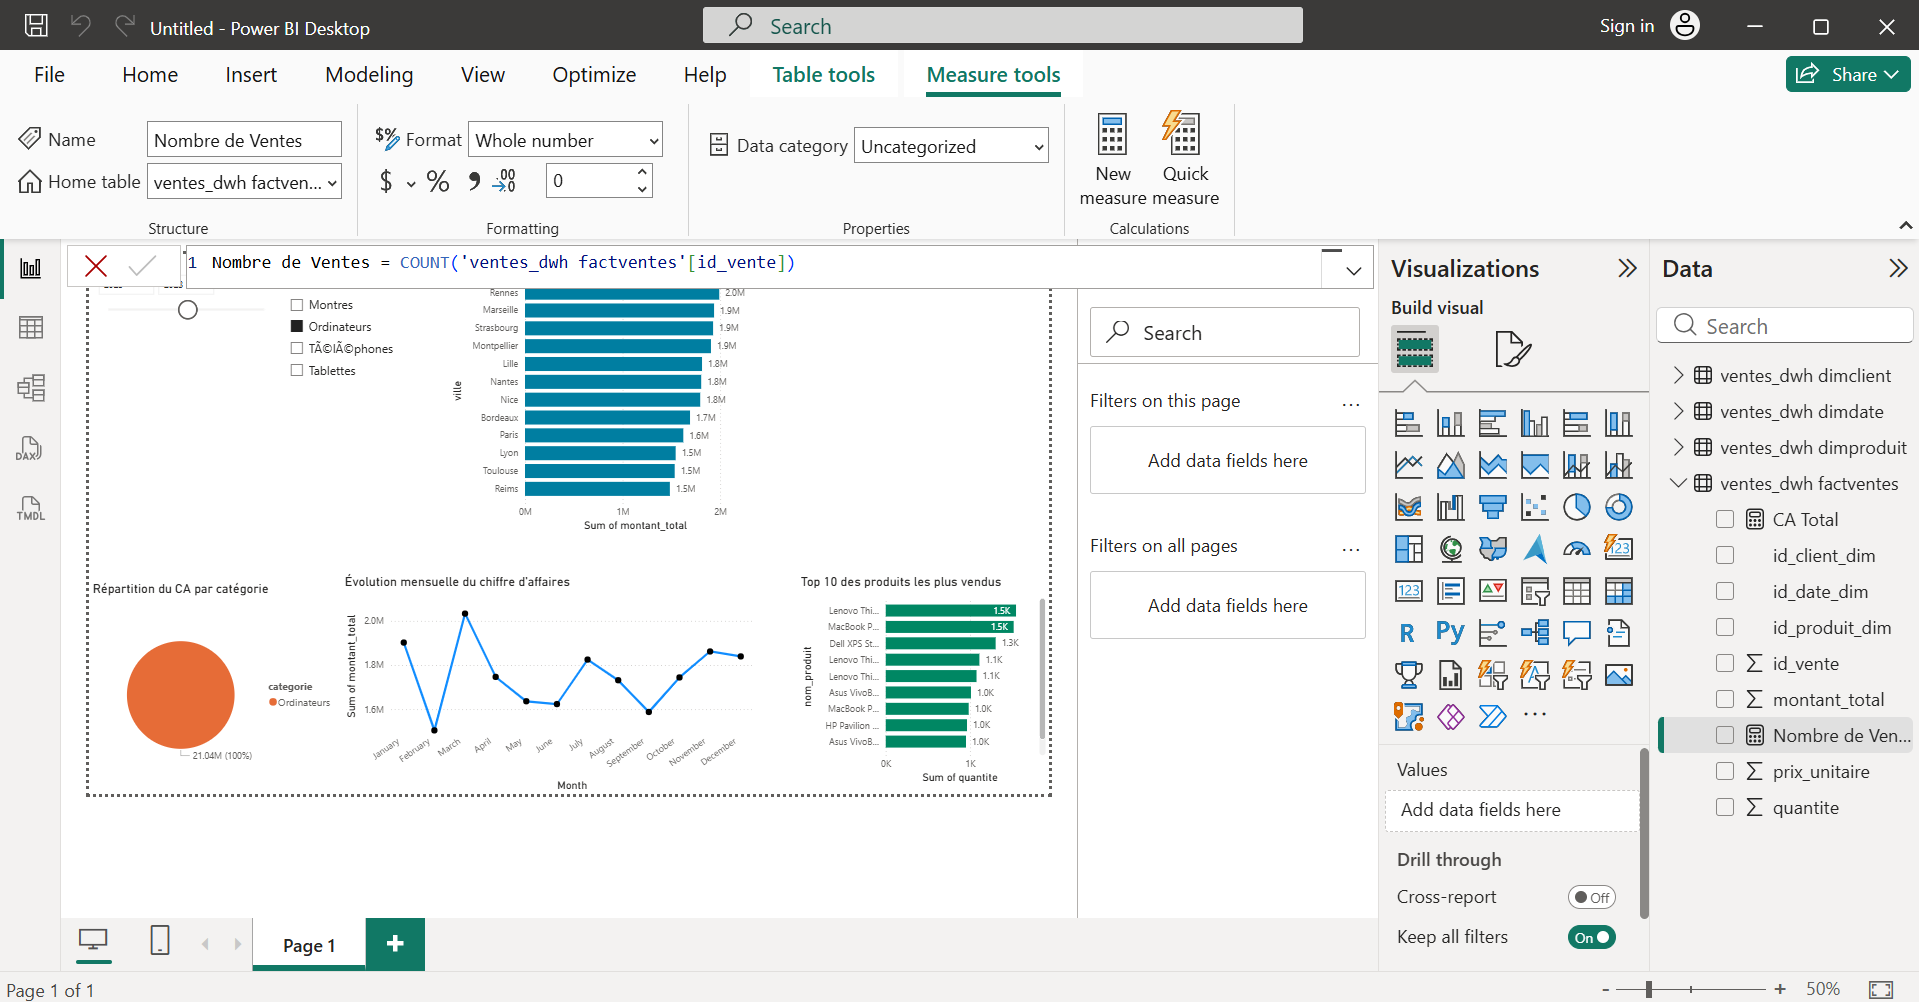

The dashboard page shown, as its layout file describes it:
{"tool":"powerbi","page":{"name":"Page 1","canvas":[1280,720],"ordinal":0},"visuals":[{"type":"barChart","title":"Chiffre d''affaires par ville","fields":{"Category":["ventes_dwh dimclient.ville"],"Y":["Sum(ventes_dwh factventes.montant_total)"]},"box":[316,66,458,342],"z":0},{"type":"pieChart","title":"Répartition du CA par catégorie","fields":{"Category":["ventes_dwh dimproduit.categorie"],"Y":["Sum(ventes_dwh factventes.montant_total)"]},"box":[326,432,336,288],"z":1000},{"type":"lineChart","title":"Évolution mensuelle du chiffre d''affaires","fields":{"Y":["Sum(ventes_dwh factventes.montant_total)"],"Category":["ventes_dwh dimdate.date_complete.Variation.Date Hierarchy.Month"]},"box":[724,432,530,288],"z":2000},{"type":"clusteredBarChart","title":"Top 10 des produits les plus vendus","fields":{"Category":["ventes_dwh dimproduit.nom_produit"],"Y":["Sum(ventes_dwh factventes.quantite)"]},"box":[800,66,432,342],"z":3000},{"type":"slicer","fields":{"Values":["ventes_dwh dimdate.annee"]},"box":[0,164,256,96],"z":4000},{"type":"slicer","fields":{"Values":["ventes_dwh dimproduit.categorie"]},"box":[0,260,210,172],"z":5000},{"type":"card","fields":{"Values":["ventes_dwh factventes.CA Total"]},"box":[0,0,112,72],"z":6000},{"type":"card","fields":{"Values":["ventes_dwh factventes.Panier Moyen"]},"box":[128,66,112,80],"z":7000},{"type":"card","fields":{"Values":["ventes_dwh factventes.Nombre de Ventes"]},"box":[112,0,154,72],"z":8000},{"type":"card","fields":{"Values":["ventes_dwh factventes.Clients Uniques"]},"box":[0,72,128,74],"z":9000},{"type":"textbox","box":[336,0,652,48],"z":10000}]}

Visuals, with their boxes on the page's 1280x720 design canvas (x1, y1, x2, y2). These are canvas units, not pixel positions in the 1919x1002 screenshot, which may show the page scaled, cropped or inside an application window:
"Chiffre d''affaires par ville" barChart: locate(316, 66, 774, 408)
"Répartition du CA par catégorie" pieChart: locate(326, 432, 662, 720)
"Évolution mensuelle du chiffre d''affaires" lineChart: locate(724, 432, 1254, 720)
"Top 10 des produits les plus vendus" clusteredBarChart: locate(800, 66, 1232, 408)
slicer - ventes_dwh dimdate.annee: locate(0, 164, 256, 260)
slicer - ventes_dwh dimproduit.categorie: locate(0, 260, 210, 432)
card - ventes_dwh factventes.CA Total: locate(0, 0, 112, 72)
card - ventes_dwh factventes.Panier Moyen: locate(128, 66, 240, 146)
card - ventes_dwh factventes.Nombre de Ventes: locate(112, 0, 266, 72)
card - ventes_dwh factventes.Clients Uniques: locate(0, 72, 128, 146)
textbox: locate(336, 0, 988, 48)
